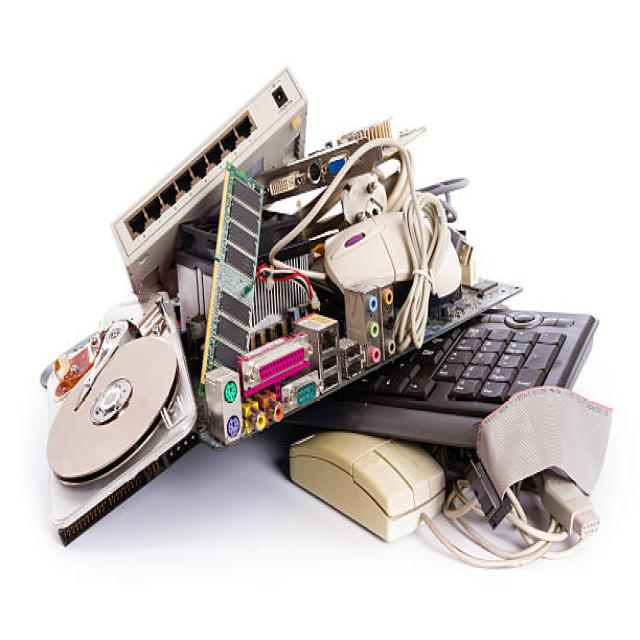metal: (58, 103, 564, 540)
